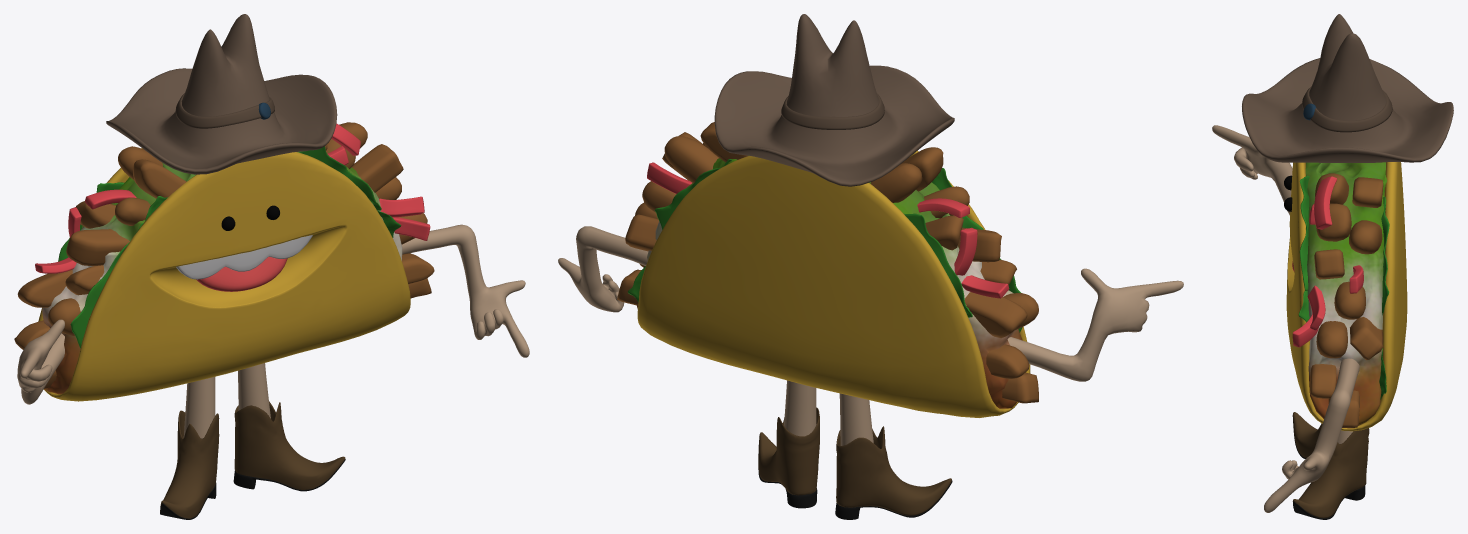
Rendered from taco.glb.
3 renders of one model, left to right at view 1: azimuth 30°, elevation 25°; view 2: azimuth 150°, elevation 25°; view 3: azimuth 270°, elevation 25°, orthographic. The views are drawn at different scales.
Parts seen in each view (by area): view 1: taco.1; view 2: taco.1; view 3: taco.1.
Boxes of the visible parts, x1=… form: taco.1: x1=14, y1=14, x2=529, y2=519; taco.1: x1=558, y1=14, x2=1183, y2=519; taco.1: x1=1212, y1=14, x2=1453, y2=519.
Bounding box in the file's own units: 0.397 × 0.3221 × 0.1529.
1 material, 1 textured.
